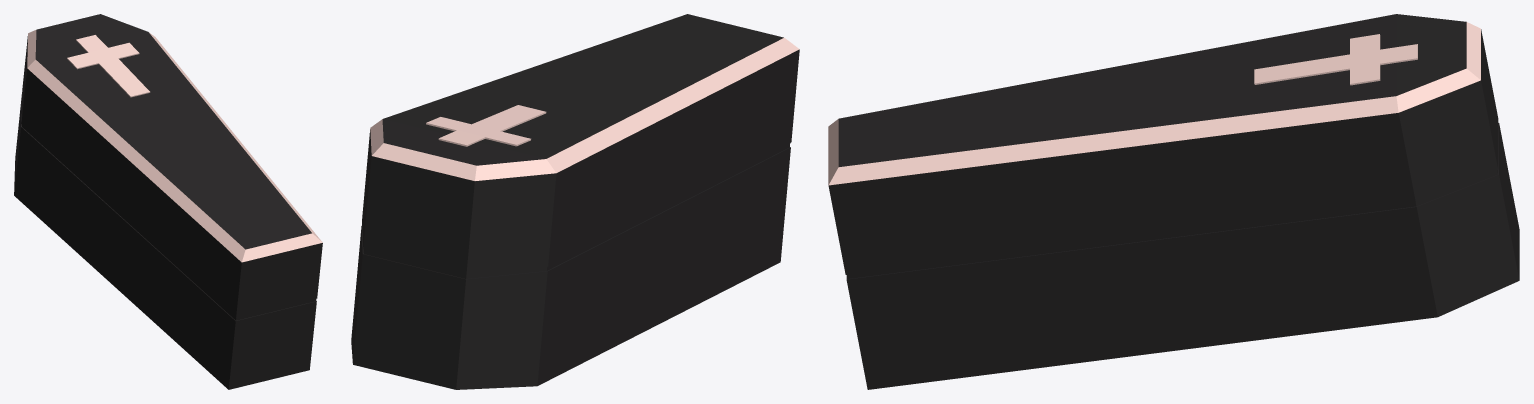
The model's file is 3D.Bara.fbx.
3 views of the same model, side by side, from view 1: azimuth 30°, elevation 25°; view 2: azimuth 150°, elevation 25°; view 3: azimuth 270°, elevation 25° (orthographic). The views are drawn at different scales.
Parts seen in each view (by area): view 1: Bara, Rifiniture; view 2: Bara, Rifiniture; view 3: Bara, Rifiniture.
Part boxes in pixels (box(x1,y1,x2,y2)): Bara: box(14, 14, 322, 389); Rifiniture: box(27, 30, 322, 262); Bara: box(351, 14, 799, 389); Rifiniture: box(370, 37, 799, 180); Bara: box(828, 14, 1519, 389); Rifiniture: box(828, 22, 1480, 185).
Bounding box in the file's own units: 69.69 × 110 × 218.
